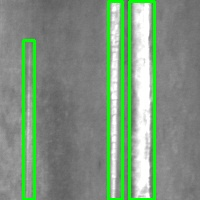scratches: (129, 1, 154, 199), (108, 1, 122, 199), (24, 40, 34, 199)
